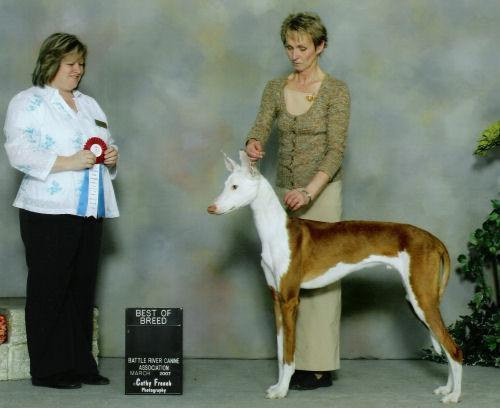Ibizan_hound: (203, 149, 464, 404)
